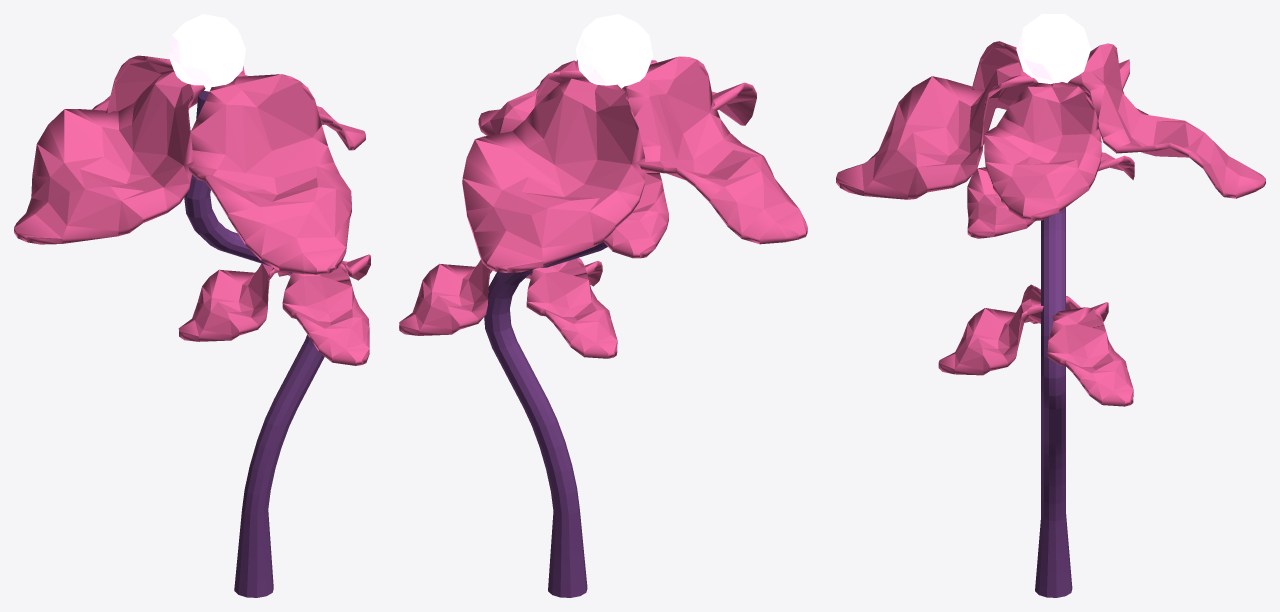
Rendered from Plant.fbx.
3 renders of one model, left to right at view 1: azimuth 30°, elevation 25°; view 2: azimuth 150°, elevation 25°; view 3: azimuth 270°, elevation 25°, orthographic. The views are drawn at different scales.
Parts seen in each view (by area): view 1: Plane.005, Cube.001, Icosphere; view 2: Plane.005, Cube.001, Icosphere; view 3: Plane.005, Cube.001, Icosphere.
Boxes of the visible parts, x1,y1,x2,y2 form: Plane.005: [14, 55, 370, 365]; Cube.001: [184, 91, 324, 597]; Icosphere: [168, 14, 245, 91]; Plane.005: [399, 56, 807, 358]; Cube.001: [484, 242, 607, 597]; Icosphere: [575, 14, 652, 88]; Plane.005: [836, 41, 1265, 406]; Cube.001: [1035, 207, 1072, 597]; Icosphere: [1016, 14, 1090, 84].
Size of the model in its own units: 344 by 521 by 368.
